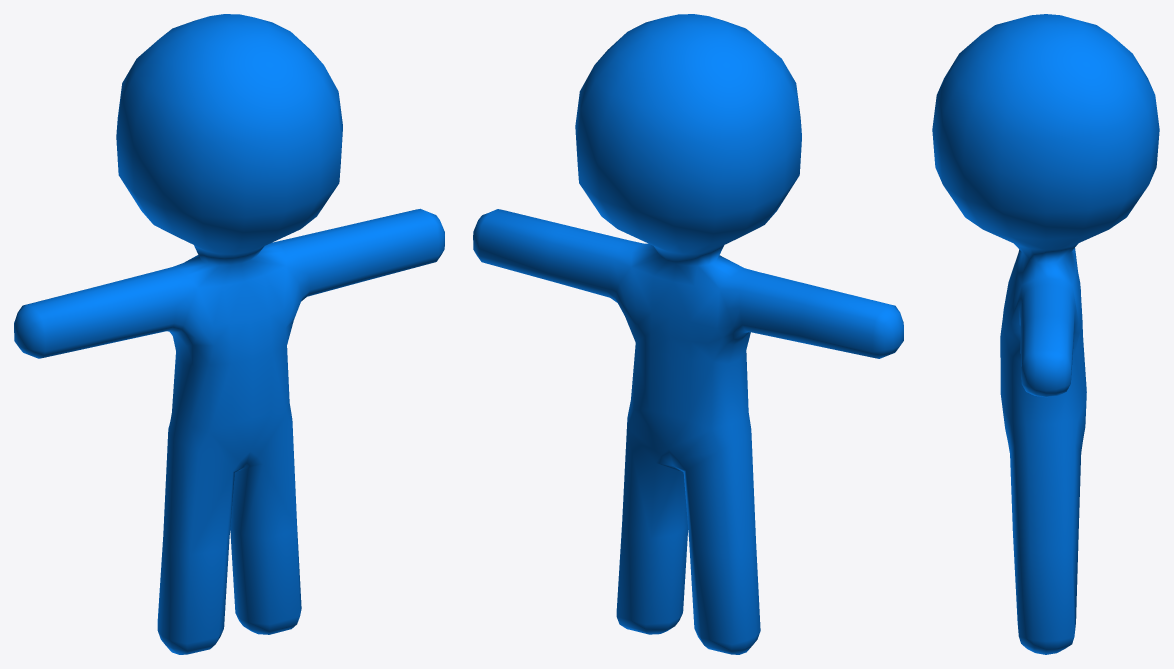
The model's file is character (2).fbx.
The picture shows the model from 3 angles, left to right: view 1: azimuth 30°, elevation 25°; view 2: azimuth 150°, elevation 25°; view 3: azimuth 270°, elevation 25°; orthographic projection.
Parts seen in each view (by area): view 1: character; view 2: character; view 3: character.
Boxes of the visible parts, x1,y1,x2,y2 form: character: [14, 14, 444, 654]; character: [473, 14, 903, 654]; character: [932, 14, 1159, 654].
Bounding box in the file's own units: 1.03 × 1.43 × 0.4889.
